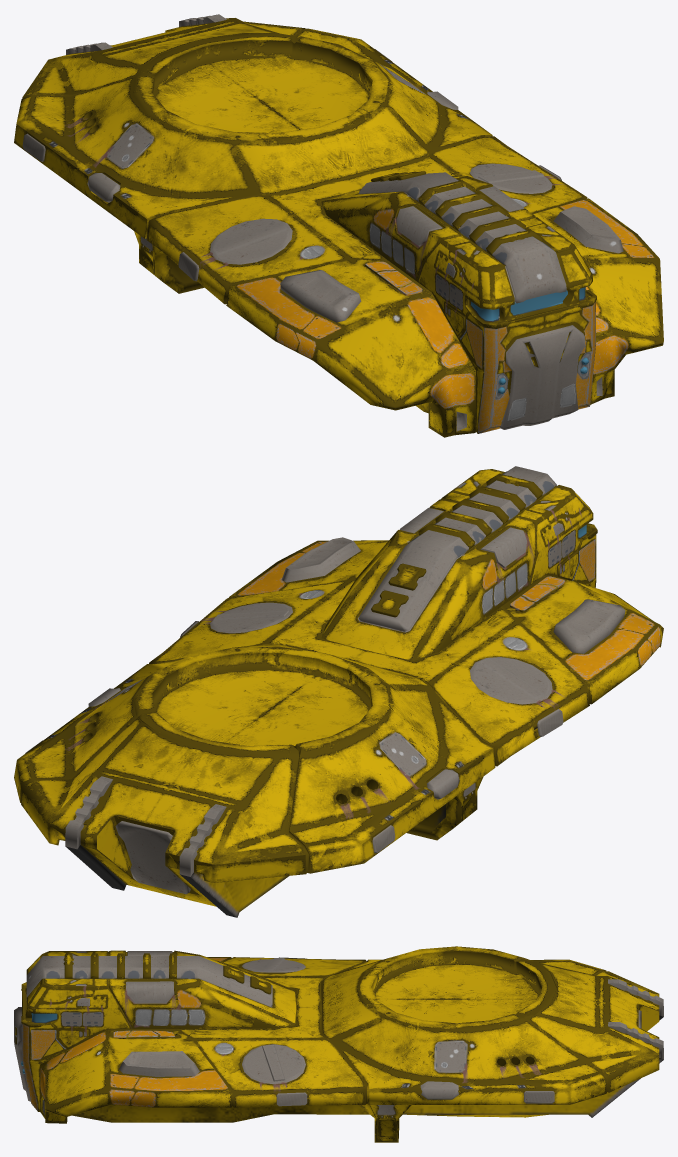
Rendered from Rocket_launcher_body.fbx.
The picture shows the model from 3 angles, top to bottom: view 1: azimuth 30°, elevation 25°; view 2: azimuth 150°, elevation 25°; view 3: azimuth 270°, elevation 25°; orthographic projection. The views are drawn at different scales.
Visible parts, largest first — view 1: Rocket_launcher_body; view 2: Rocket_launcher_body; view 3: Rocket_launcher_body.
Boxes of the visible parts, x1,y1,x2,y2 form: Rocket_launcher_body: [14, 14, 663, 437]; Rocket_launcher_body: [14, 466, 663, 917]; Rocket_launcher_body: [14, 946, 663, 1142].
Size of the model in its own units: 671 by 316 by 1330.
